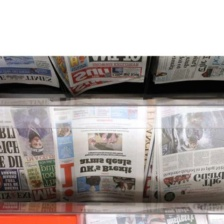news_paper: (53, 100, 151, 207), (152, 99, 224, 205), (0, 105, 58, 205), (48, 50, 150, 98), (82, 203, 209, 224), (150, 54, 224, 86), (0, 54, 61, 91)
